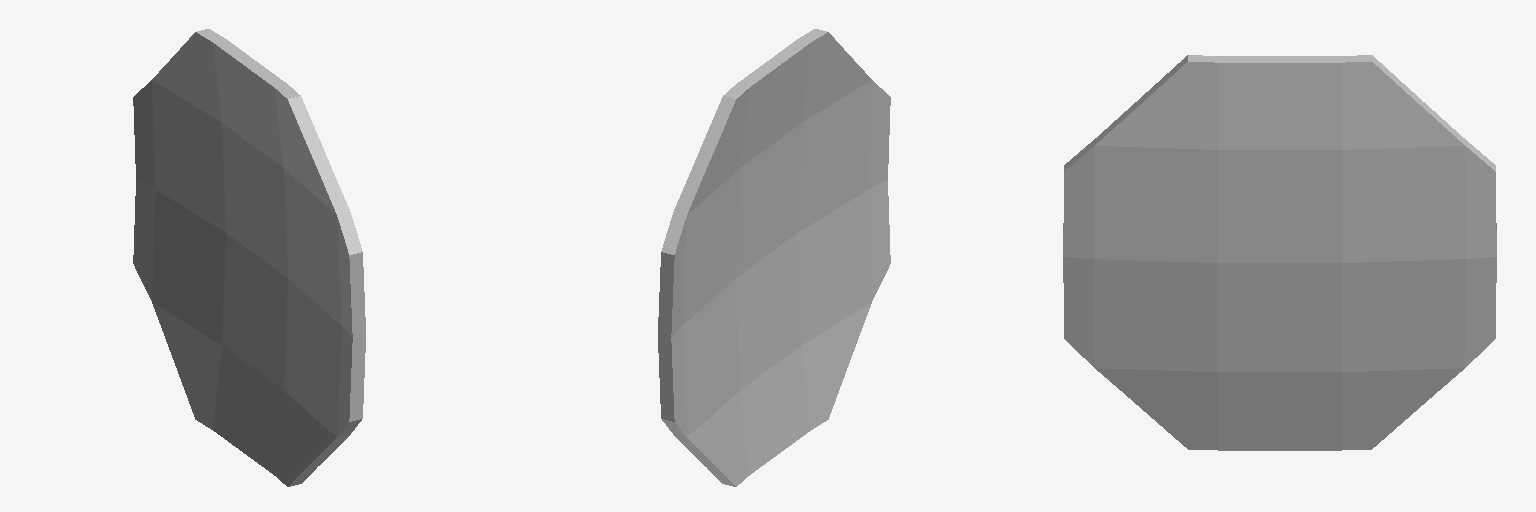
File: sphereHexPlate.obj
3 views of the same model, side by side, from view 1: azimuth 30°, elevation 25°; view 2: azimuth 150°, elevation 25°; view 3: azimuth 270°, elevation 25° (orthographic).
Parts seen in each view (by area): view 1: Sphere.001; view 2: Sphere.001; view 3: Sphere.001.
Boxes of the visible parts, box(x1,y1,x2,y2) form: Sphere.001: box(133, 29, 365, 486); Sphere.001: box(658, 29, 890, 486); Sphere.001: box(1063, 55, 1496, 450).
Bounding box in the file's own units: 0.0218 × 0.2739 × 0.2773.